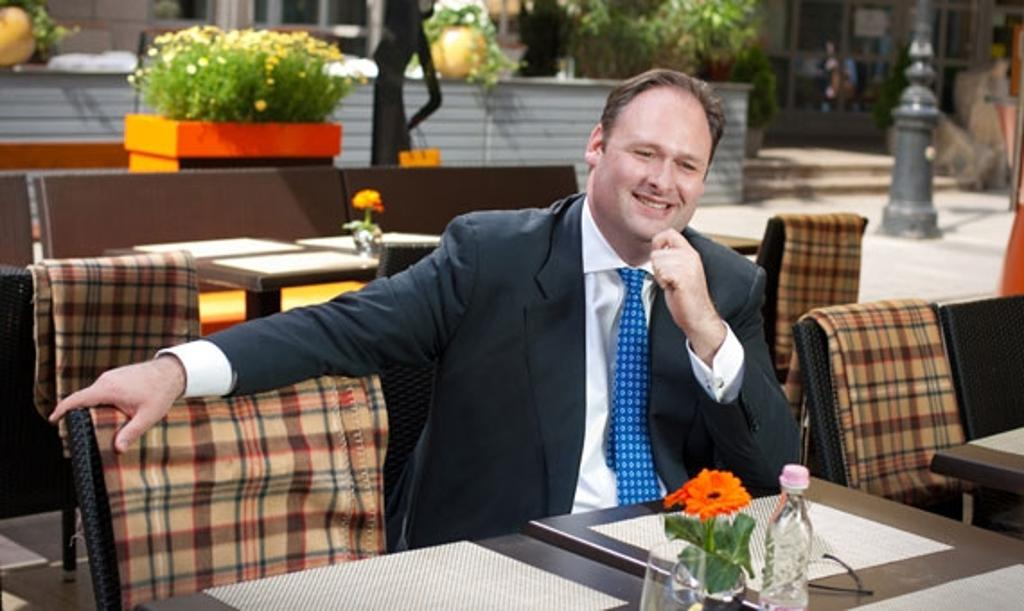face: (604, 98, 704, 240)
